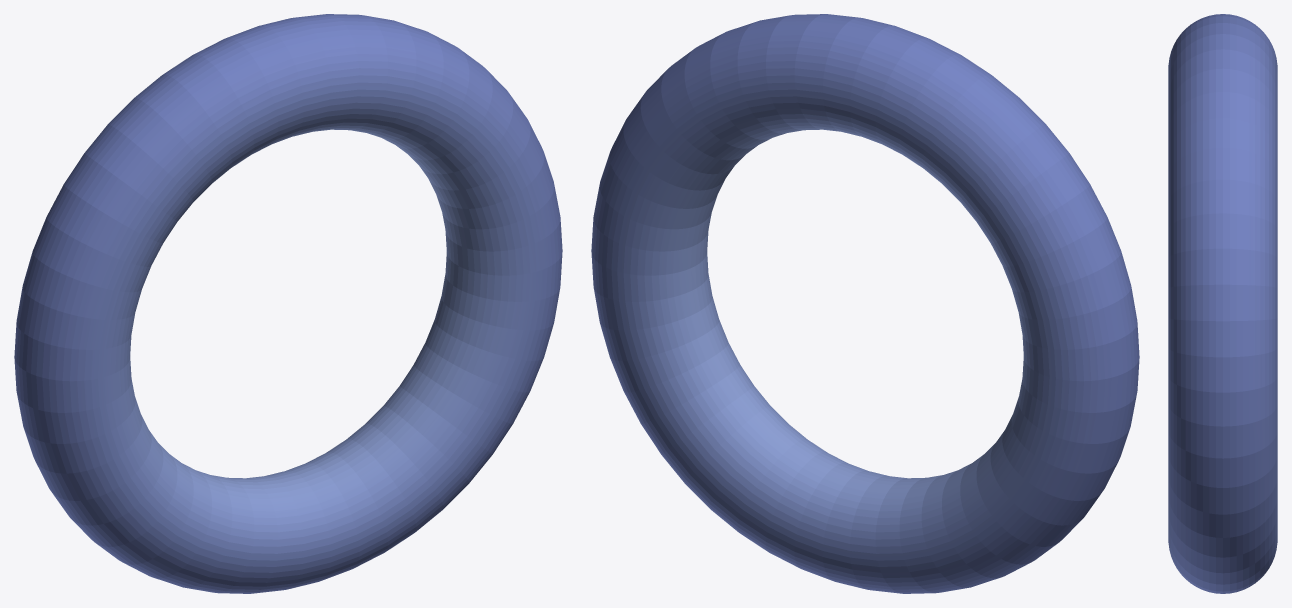
The picture shows the model from 3 angles, left to right: view 1: azimuth 30°, elevation 25°; view 2: azimuth 150°, elevation 25°; view 3: azimuth 270°, elevation 25°; orthographic projection. The views are drawn at different scales.
Parts seen in each view (by area): view 1: world; view 2: world; view 3: world.
Boxes of the visible parts, <box> form: world: <box>14,14,562,593</box>; world: <box>591,14,1139,593</box>; world: <box>1168,14,1277,593</box>.
Size of the model in its own units: 20.53 by 20.49 by 3.86.
